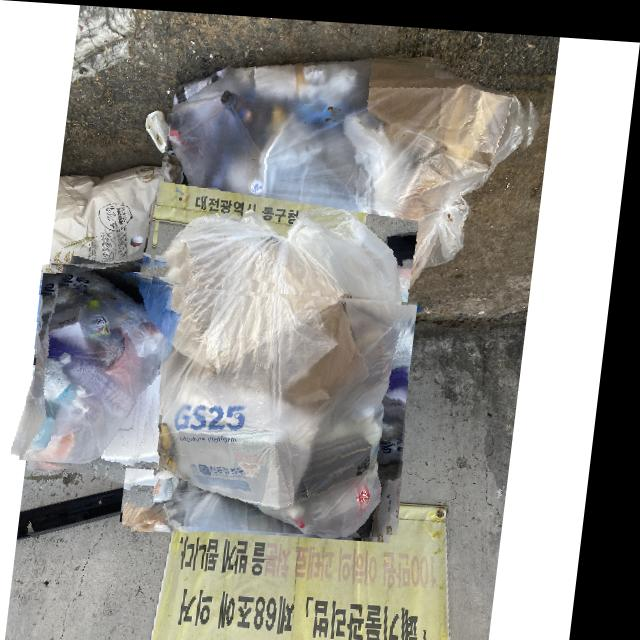other_trashbag: (172, 53, 533, 293), (147, 207, 415, 530), (31, 261, 178, 461), (101, 217, 102, 218)
